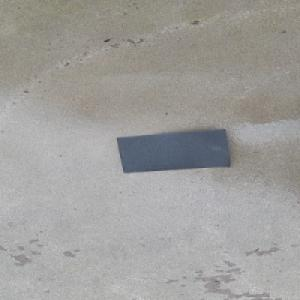PaintChip: (114, 128, 229, 173)
